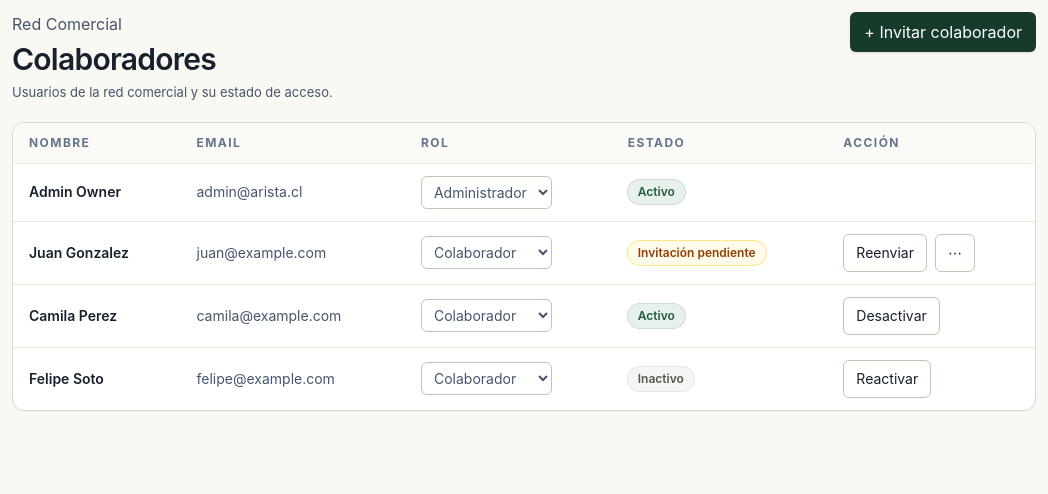
Scenario: CollaboratorsPage › permite reenviar invitacion pendiente
What coordinates should you click on to do the following:
click the button "Reenviar"
I would click on:
 (885, 253)
Its box is [843,234,927,272].
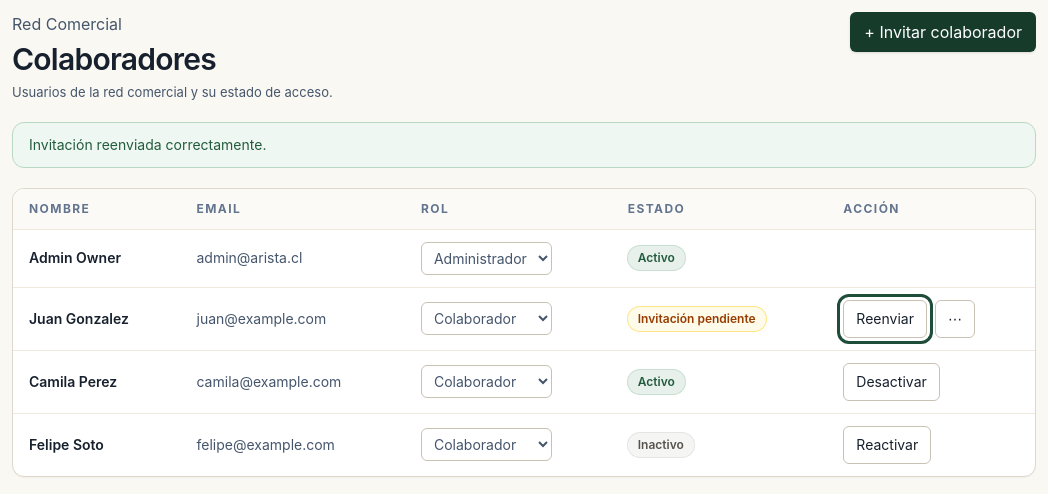
Check: the text "Invitación reenviada correctamente." is shown, box [12,122,1036,168]
